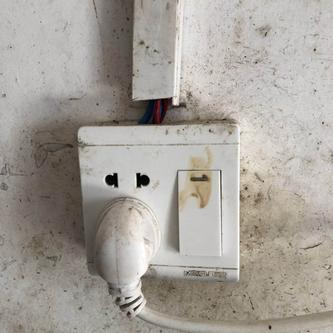switch: (177, 169, 222, 257)
